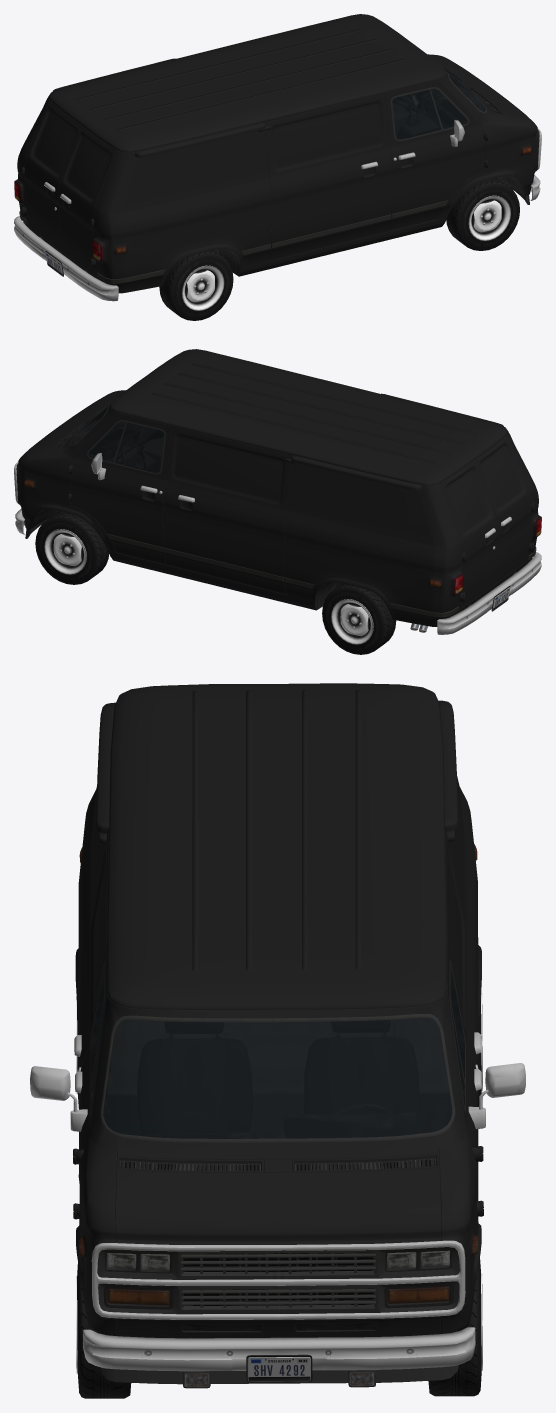
Rendered from shvan.glb.
3 renders of one model, top to bottom at view 1: azimuth 30°, elevation 25°; view 2: azimuth 150°, elevation 25°; view 3: azimuth 270°, elevation 25°, orthographic. The views are drawn at different scales.
Parts seen in each view (by area): view 1: Shvan92_Body_Shvan92_bodymat_0, Shvan92_WheelStock_FR_RB1c_Tire_1k_0, Shvan92_Bottom_UCB_BOTTOM_0, Shvan92_WheelStock_RL_RB1c_Tire_1k_0, Shvan92_Interior_UCB_Interiors_1_0, Shvan92_Bumper_rear_UCB_BOTTOM_0, Shvan92_Glass_Passanger_UCB_Lights_and_Glass_Transperent_0, Shvan92_Hood_Shvan92_bodymat_0, Shvan92_Body_glass_UCB_Lights_and_Glass_Transperent_0; view 2: Shvan92_Body_Shvan92_bodymat_0, Shvan92_Bottom_UCB_BOTTOM_0, Shvan92_WheelStock_FL_RB1c_Tire_1k_0, Shvan92_WheelStock_RL_RB1c_Tire_1k_0, Shvan92_Interior_UCB_Interiors_1_0, Shvan92_Bumper_rear_UCB_BOTTOM_0, Shvan92_Glass_Driver_UCB_Lights_and_Glass_Transperent_0, Shvan92_Hood_Shvan92_bodymat_0, Shvan92_Body_glass_UCB_Lights_and_Glass_Transperent_0; view 3: Shvan92_Body_Shvan92_bodymat_0, Shvan92_Bottom_UCB_BOTTOM_0, Shvan92_Interior_UCB_Interiors_1_0, Shvan92_Windshield_UCB_Lights_and_Glass_Transperent_0, Shvan92_Hood_Shvan92_bodymat_0, Shvan92_Bumper_front_UCB_BOTTOM_0, Shvan92_Headlights_Glass_UCB_Lights_and_Glass_Transperent_0, Shvan92_WheelStock_FL_RB1c_Tire_1k_0, Shvan92_WheelStock_FR_RB1c_Tire_1k_0, Shvan92_Headlights_UCB_Lights_and_Glass_0, Shvan92_Blinkers_UCB_Lights_and_Glass_0, Shvan92_Numberplate_front_Numberplates_Misk_U_0.
Part boxes in pixels (<box>): Shvan92_Body_Shvan92_bodymat_0: <box>16,14,539,293</box>; Shvan92_WheelStock_FR_RB1c_Tire_1k_0: <box>446,177,519,250</box>; Shvan92_Bottom_UCB_BOTTOM_0: <box>19,43,541,283</box>; Shvan92_WheelStock_RL_RB1c_Tire_1k_0: <box>159,250,233,320</box>; Shvan92_Interior_UCB_Interiors_1_0: <box>271,79,485,231</box>; Shvan92_Bumper_rear_UCB_BOTTOM_0: <box>14,216,118,301</box>; Shvan92_Glass_Passanger_UCB_Lights_and_Glass_Transperent_0: <box>392,90,441,139</box>; Shvan92_Hood_Shvan92_bodymat_0: <box>430,56,532,121</box>; Shvan92_Body_glass_UCB_Lights_and_Glass_Transperent_0: <box>430,89,467,129</box>; Shvan92_Body_Shvan92_bodymat_0: <box>16,349,539,626</box>; Shvan92_Bottom_UCB_BOTTOM_0: <box>14,405,536,632</box>; Shvan92_WheelStock_FL_RB1c_Tire_1k_0: <box>35,511,109,584</box>; Shvan92_WheelStock_RL_RB1c_Tire_1k_0: <box>322,583,396,654</box>; Shvan92_Interior_UCB_Interiors_1_0: <box>71,414,163,472</box>; Shvan92_Bumper_rear_UCB_BOTTOM_0: <box>437,552,541,634</box>; Shvan92_Glass_Driver_UCB_Lights_and_Glass_Transperent_0: <box>114,423,163,472</box>; Shvan92_Hood_Shvan92_bodymat_0: <box>23,392,123,454</box>; Shvan92_Body_glass_UCB_Lights_and_Glass_Transperent_0: <box>88,422,125,462</box>; Shvan92_Body_Shvan92_bodymat_0: <box>73,683,483,1338</box>; Shvan92_Bottom_UCB_BOTTOM_0: <box>30,844,525,1388</box>; Shvan92_Interior_UCB_Interiors_1_0: <box>85,943,464,1138</box>; Shvan92_Windshield_UCB_Lights_and_Glass_Transperent_0: <box>103,1017,452,1138</box>; Shvan92_Hood_Shvan92_bodymat_0: <box>115,1167,440,1244</box>; Shvan92_Bumper_front_UCB_BOTTOM_0: <box>83,1327,475,1382</box>; Shvan92_Headlights_Glass_UCB_Lights_and_Glass_Transperent_0: <box>107,1250,450,1305</box>; Shvan92_WheelStock_FL_RB1c_Tire_1k_0: <box>428,1258,482,1396</box>; Shvan92_WheelStock_FR_RB1c_Tire_1k_0: <box>76,1263,131,1398</box>; Shvan92_Headlights_UCB_Lights_and_Glass_0: <box>107,1251,449,1269</box>; Shvan92_Blinkers_UCB_Lights_and_Glass_0: <box>108,1287,448,1304</box>; Shvan92_Numberplate_front_Numberplates_Misk_U_0: <box>247,1357,310,1381</box>.
Bounding box in the file's own units: 4.9 × 1.93 × 2.35.
Materials: 7 (6 with a texture image).
